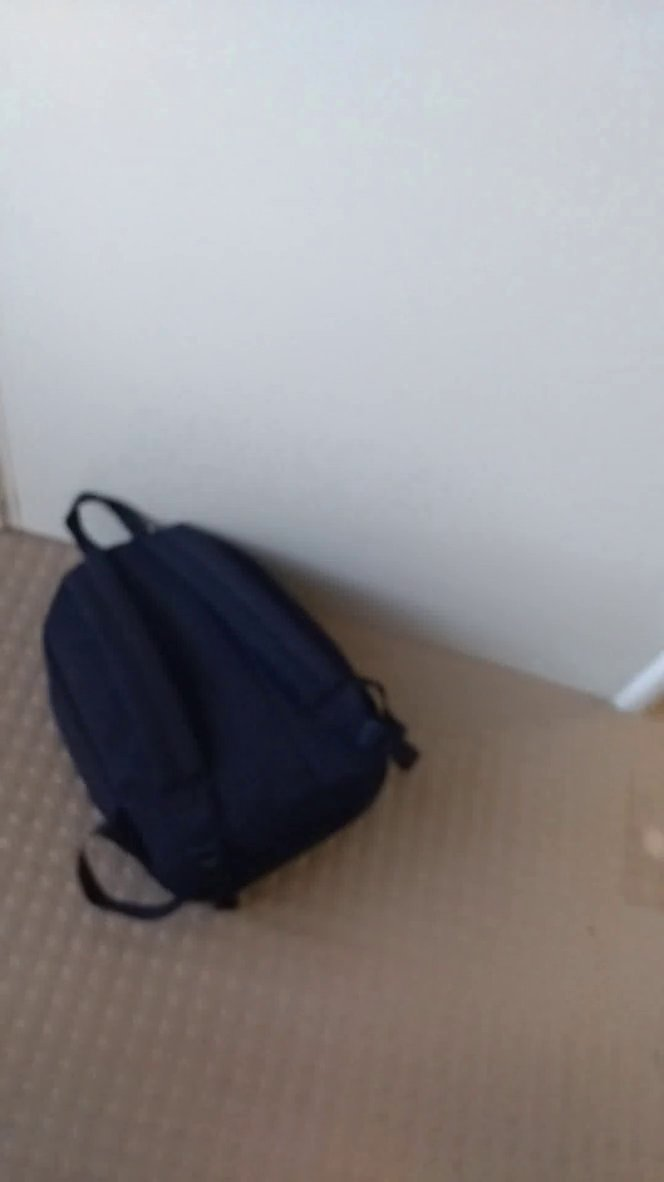bag: (35, 478, 441, 944)
